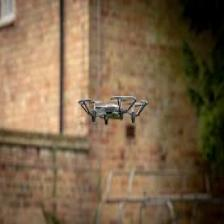drone: (78, 95, 146, 124)
